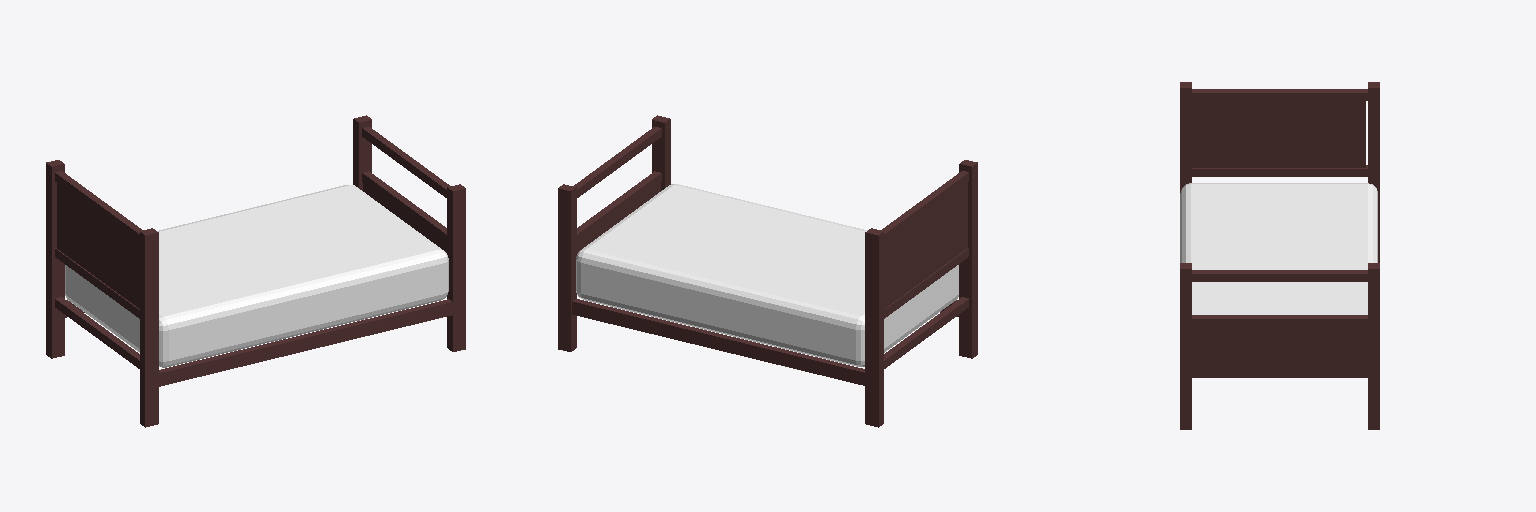
The model's file is bed2.obj.
3 renders of one model, left to right at view 1: azimuth 30°, elevation 25°; view 2: azimuth 150°, elevation 25°; view 3: azimuth 270°, elevation 25°, orthographic.
Visible parts, largest first — view 1: bed2; view 2: bed2; view 3: bed2.
Boxes of the visible parts, x1,y1,x2,y2 form: bed2: [46, 115, 465, 427]; bed2: [558, 115, 977, 427]; bed2: [1180, 82, 1379, 429].
Bounding box in the file's own units: 2.23 × 1.27 × 1.2.